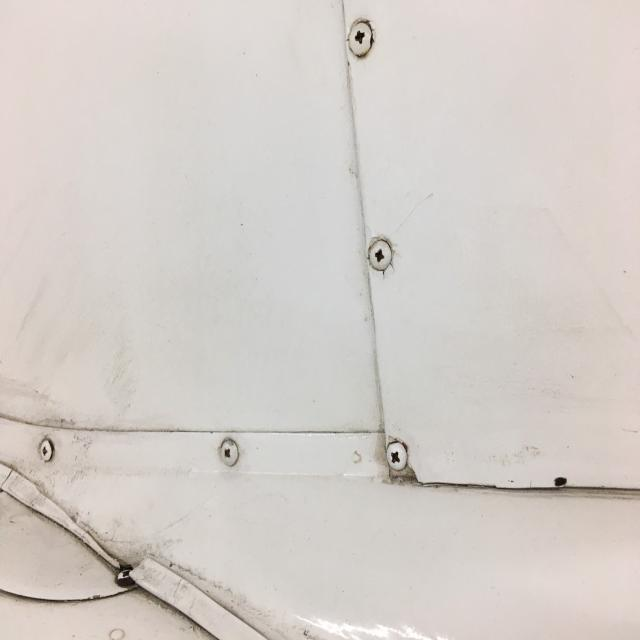Crack: (0, 452, 129, 576), (376, 421, 432, 514), (358, 218, 399, 291), (536, 466, 586, 500)
